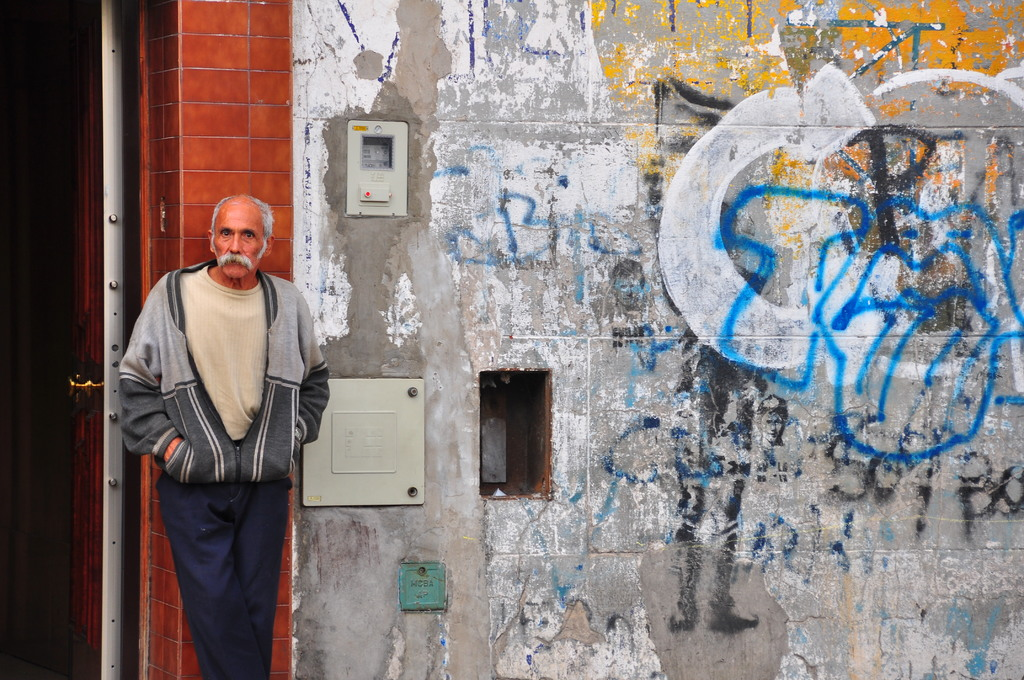door: (68, 83, 110, 664)
handle: (66, 369, 107, 394)
